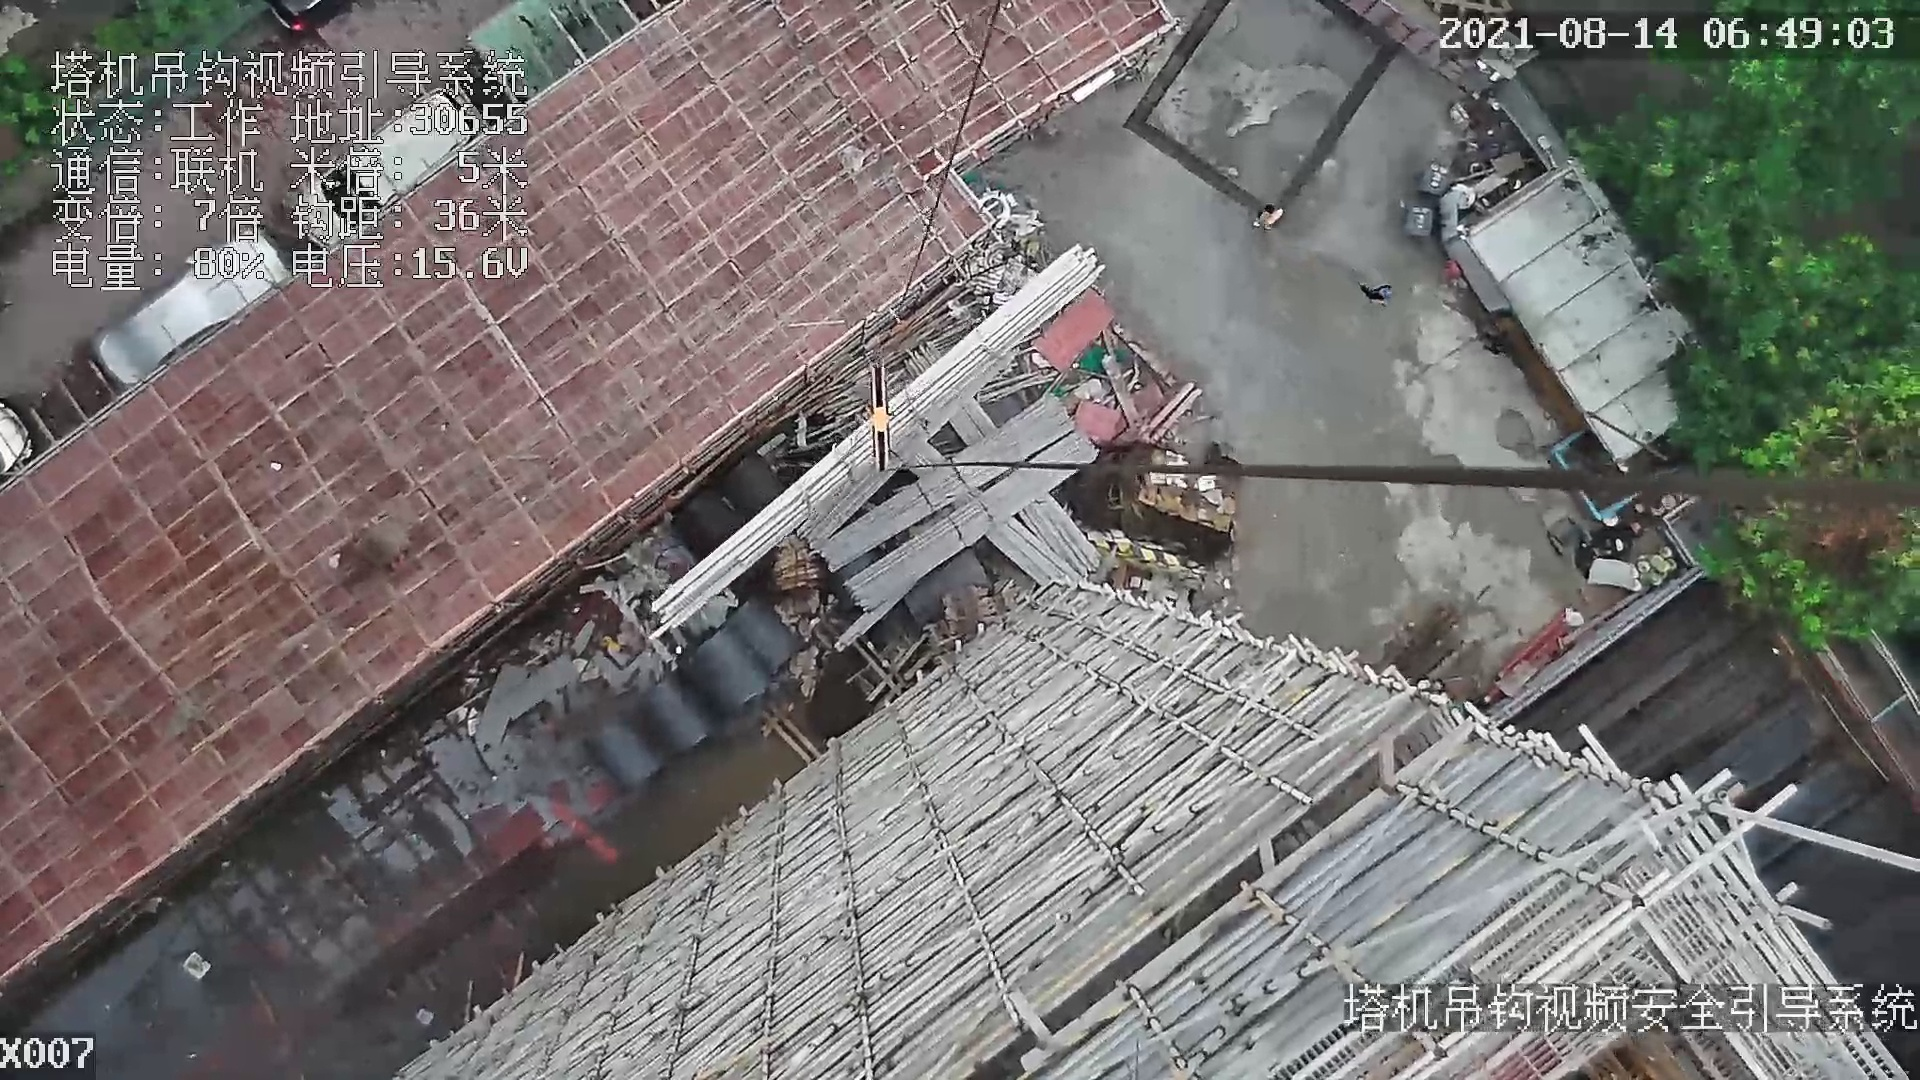hook: (862, 363, 897, 472)
person: (1356, 271, 1392, 306), (1256, 196, 1286, 233)
